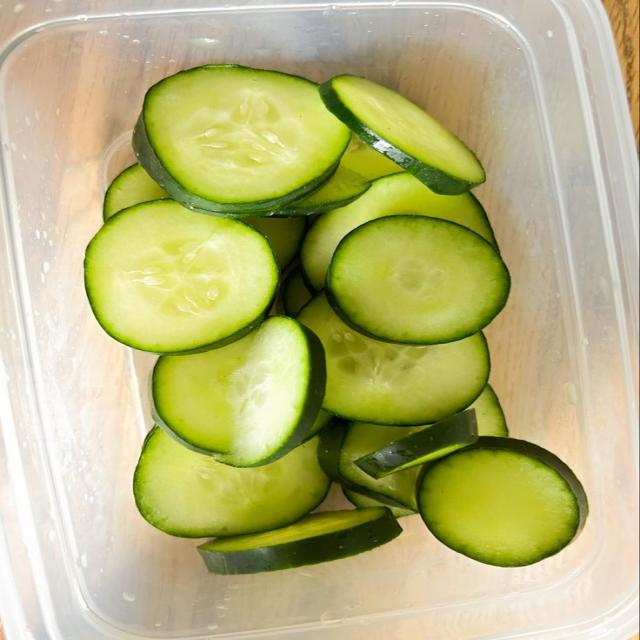cucumber sliced: (134, 65, 350, 214), (85, 200, 279, 353), (152, 316, 325, 466), (297, 292, 489, 425), (327, 215, 510, 344), (300, 173, 495, 290), (418, 437, 587, 566), (134, 428, 330, 537), (320, 75, 485, 194), (198, 507, 401, 574), (319, 419, 431, 512), (319, 420, 422, 512), (355, 410, 478, 479), (274, 162, 370, 216), (103, 163, 170, 221), (243, 217, 306, 271), (243, 217, 306, 270), (341, 136, 402, 180), (342, 488, 417, 518), (469, 384, 508, 436), (281, 267, 313, 317), (306, 410, 334, 439)
